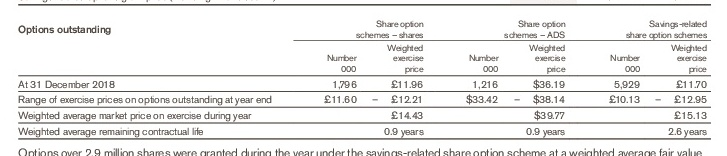table: (0, 0, 727, 156)
